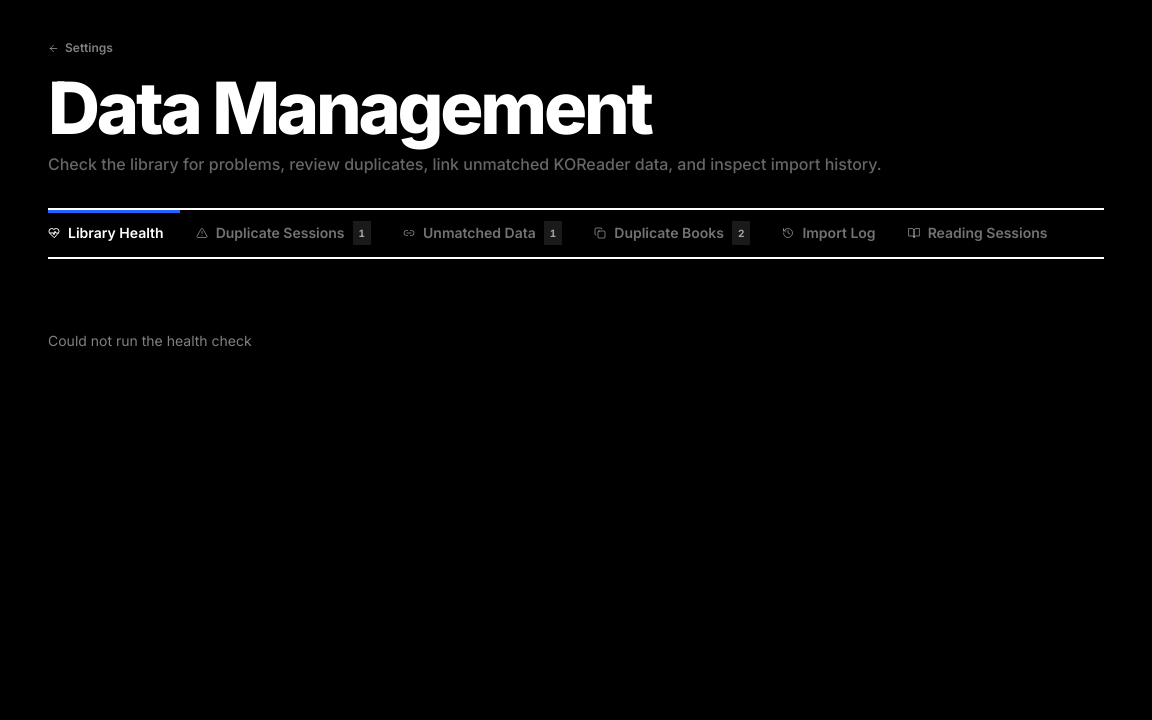
Test: DataManagement page › renders the page title
What coordinates should you click on to do the following:
click the button "Duplicate Sessions 1"
I would click on:
 (283, 232)
Its box is [180,208,387,257].
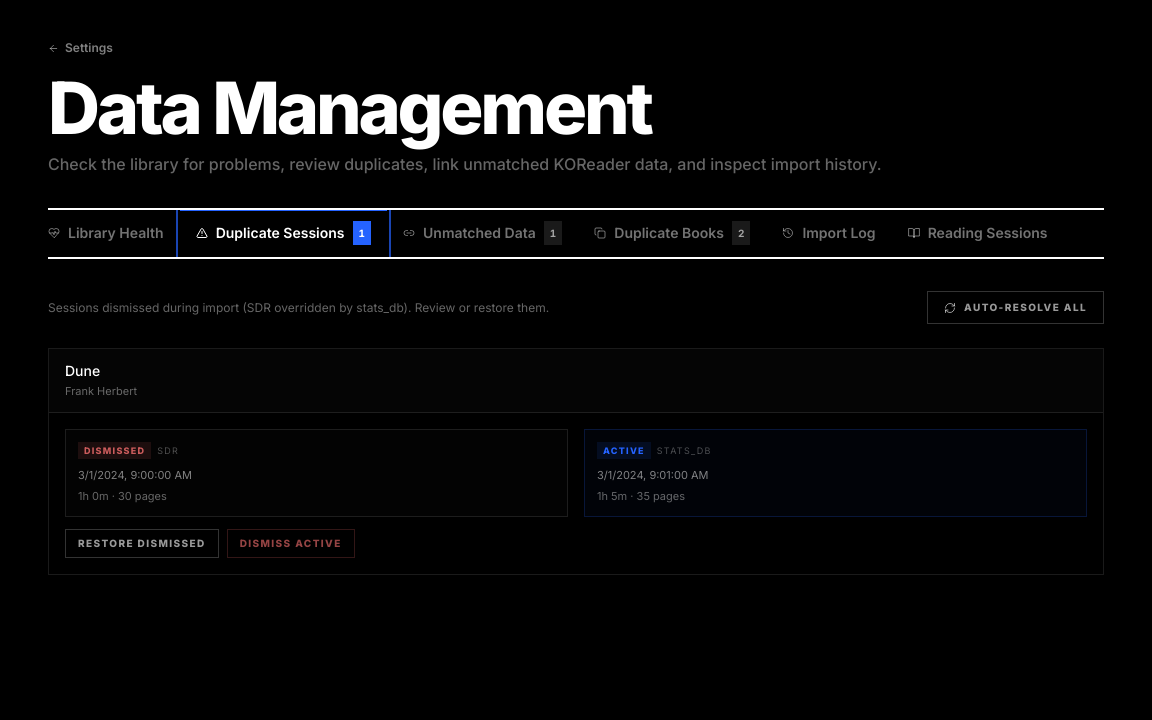
Check: the heading "Data Management" is shown, box [48,64,651,151]
Check: the element with test id "duplicate-group-book-1" is shown, box [48,348,1104,575]
